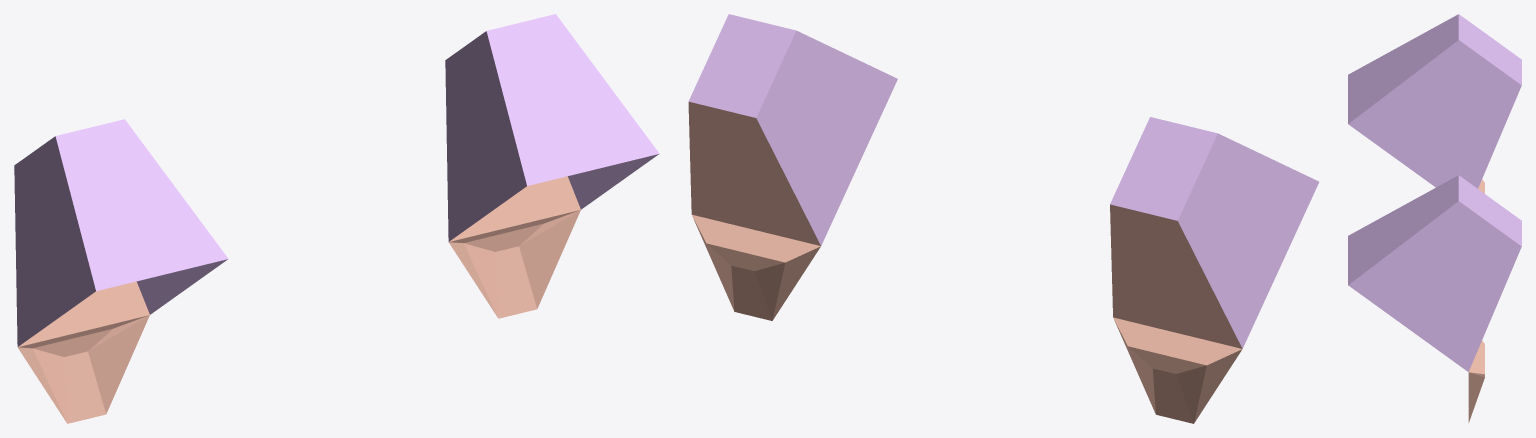
3 renders of one model, left to right at view 1: azimuth 30°, elevation 25°; view 2: azimuth 150°, elevation 25°; view 3: azimuth 270°, elevation 25°, orthographic. The views are drawn at different scales.
Parts seen in each view (by area): view 1: Object14; view 2: Object14; view 3: Object14.
Part boxes in pixels (x1,y1,x2,y2): Object14: (14,14,659,423); Object14: (688,14,1318,423); Object14: (1348,14,1521,422).
Size of the model in its own units: 20160 by 10154 by 7026.
